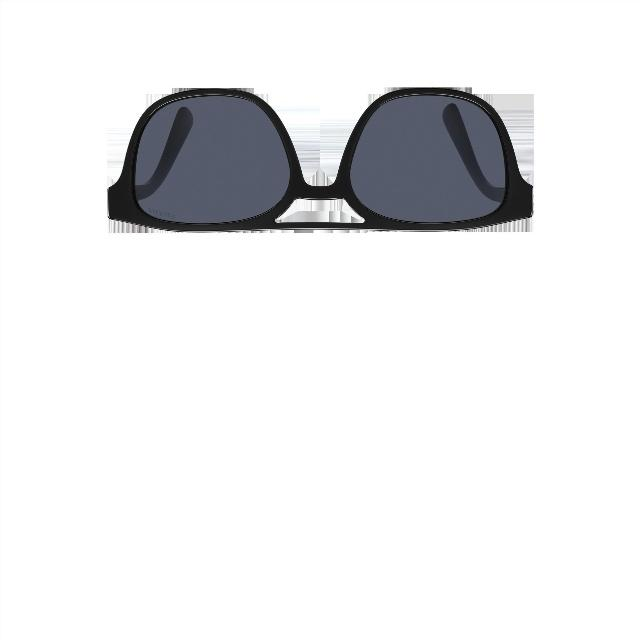Sunglasses: (96, 81, 548, 246)
